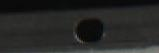holes: (74, 15, 105, 43)
